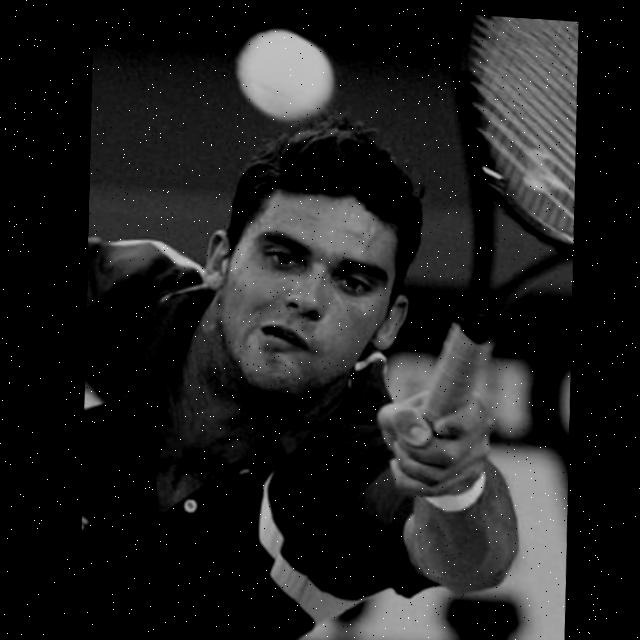face: (208, 174, 412, 416)
